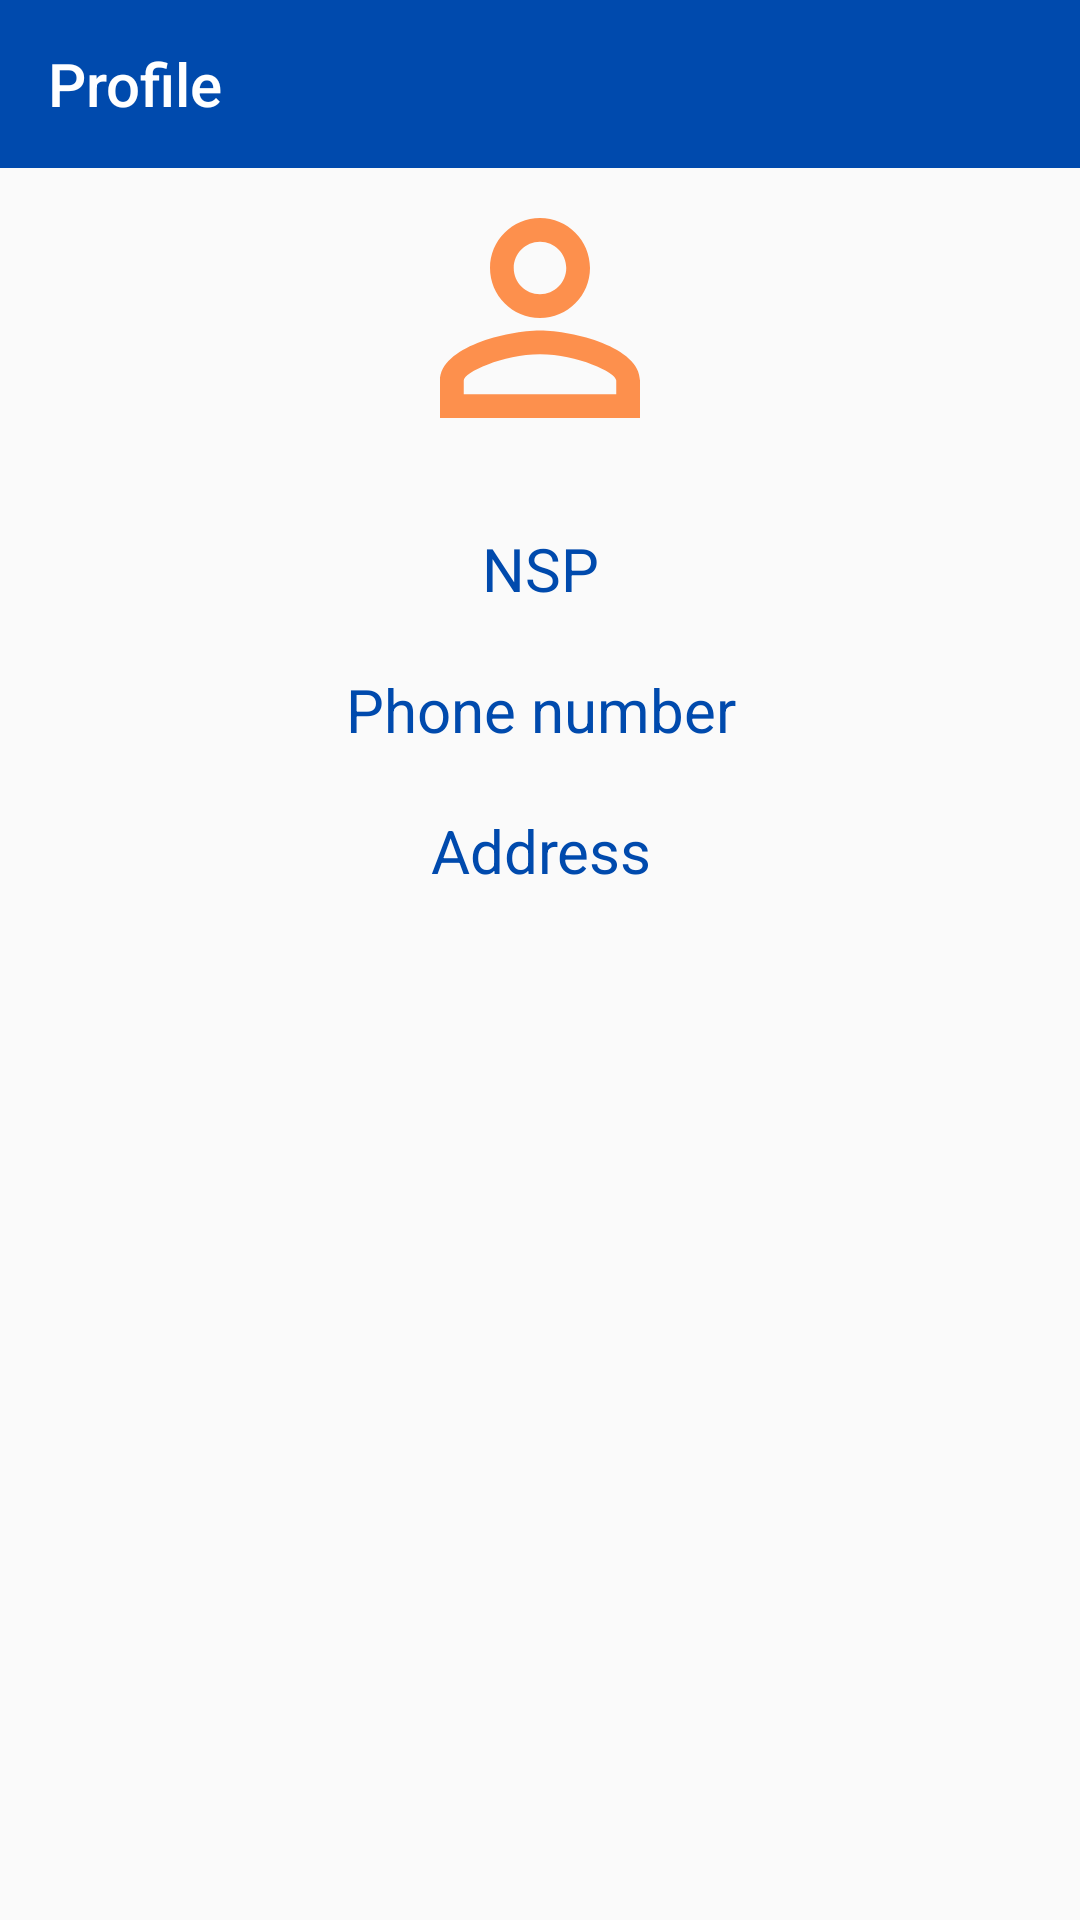

Icon bounding boxes for this 1080×1920 phone screenshot, format {"x1": x1, "y1": y1, "x2": x2, "y2": y2}:
profile: {"x1": 440, "y1": 218, "x2": 640, "y2": 418}
